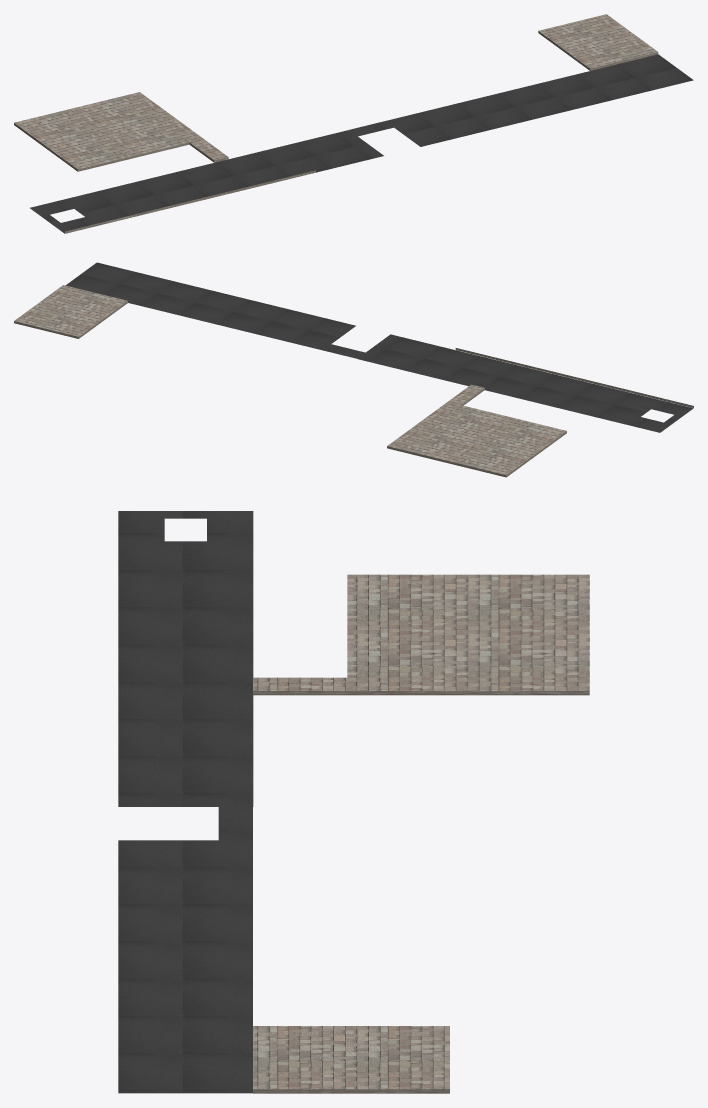
The model's file is roof_1st_right.fbx.
The picture shows the model from 3 angles, top to bottom: view 1: azimuth 30°, elevation 25°; view 2: azimuth 150°, elevation 25°; view 3: azimuth 270°, elevation 25°; orthographic projection. The views are drawn at different scales.
Visible parts, largest first — view 1: Plane.003; view 2: Plane.003; view 3: Plane.003.
Boxes of the visible parts, left/top/right/bottom form: Plane.003: left=14, top=14, right=693, bottom=233; Plane.003: left=14, top=262, right=693, bottom=477; Plane.003: left=118, top=511, right=589, bottom=1093.
Bounding box in the file's own units: 25154 × 95.49 × 8603.
